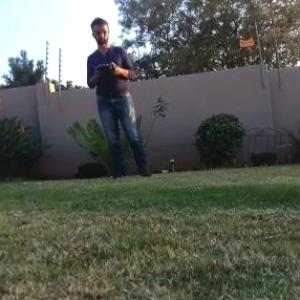follow: (84, 8, 158, 184)
